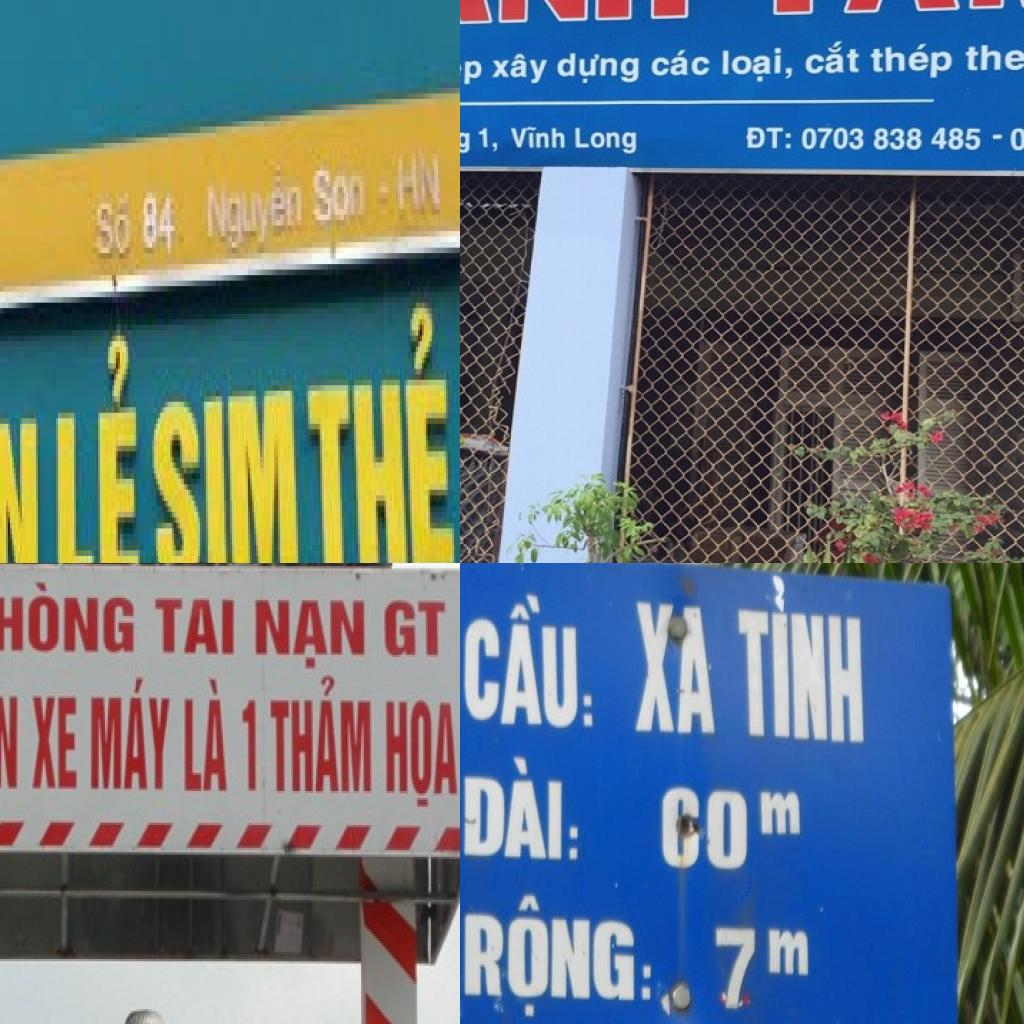text: (725, 576, 875, 765), (460, 890, 662, 1024), (152, 385, 300, 563), (460, 576, 603, 738), (52, 330, 142, 563), (639, 766, 807, 890), (460, 744, 596, 878), (623, 588, 726, 745), (265, 673, 373, 798), (206, 160, 306, 275), (85, 675, 175, 793), (0, 577, 136, 654), (382, 698, 460, 816), (252, 598, 369, 673), (0, 374, 42, 563), (180, 673, 232, 795), (155, 596, 240, 659), (29, 689, 80, 791), (803, 126, 983, 154), (312, 160, 370, 236), (383, 600, 448, 662), (394, 143, 442, 226), (92, 176, 134, 270), (140, 182, 178, 270), (872, 44, 954, 82), (0, 691, 26, 807), (554, 52, 640, 87), (721, 48, 796, 86), (237, 693, 260, 798), (803, 40, 863, 76), (963, 42, 1024, 75), (491, 53, 550, 87), (574, 126, 640, 156), (648, 50, 713, 78), (510, 126, 568, 150), (743, 126, 794, 151), (460, 51, 484, 88), (478, 126, 501, 154)
